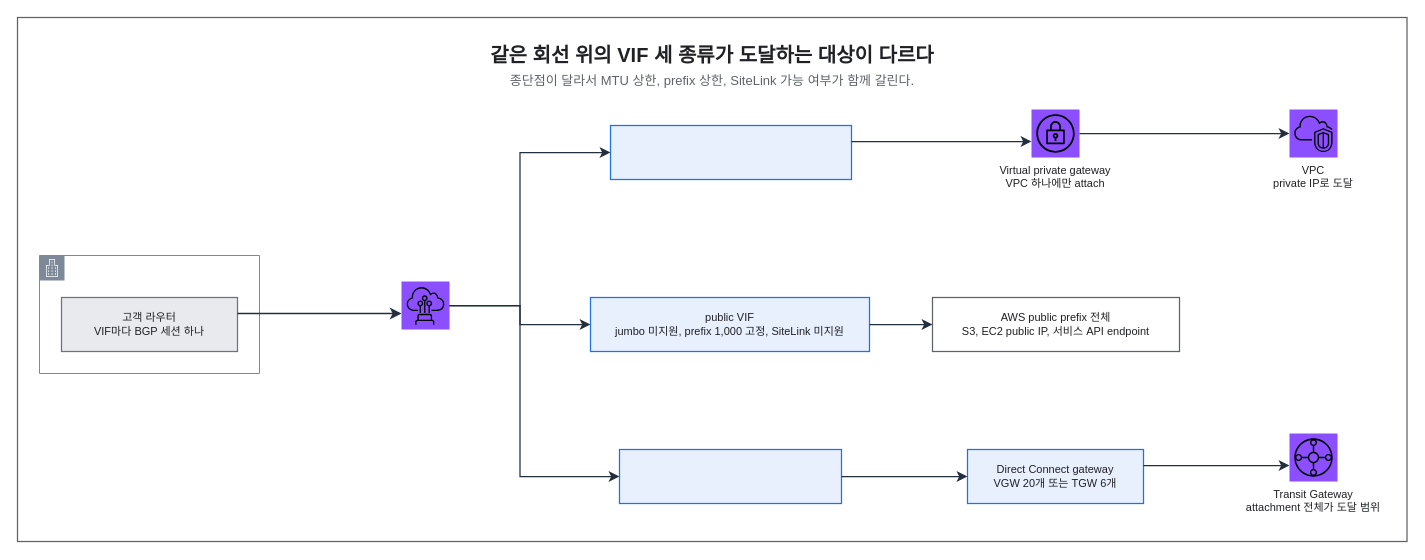
Some shapes in this 1425 by 560 pixel diagram are drawn without their labels. Each missing label, with the box of its shape:
Direct Connect 연결 dedicated는 VIF 51개, hosted는 1개: (401, 281, 449, 329)
private VIF MTU 1500 또는 9001, 수신 prefix 기본 100: (609, 124, 852, 180)
transit VIF dedicated당 4개, MTU 1500 또는 8500: (618, 448, 842, 504)
온프레미스: (38, 254, 260, 374)
